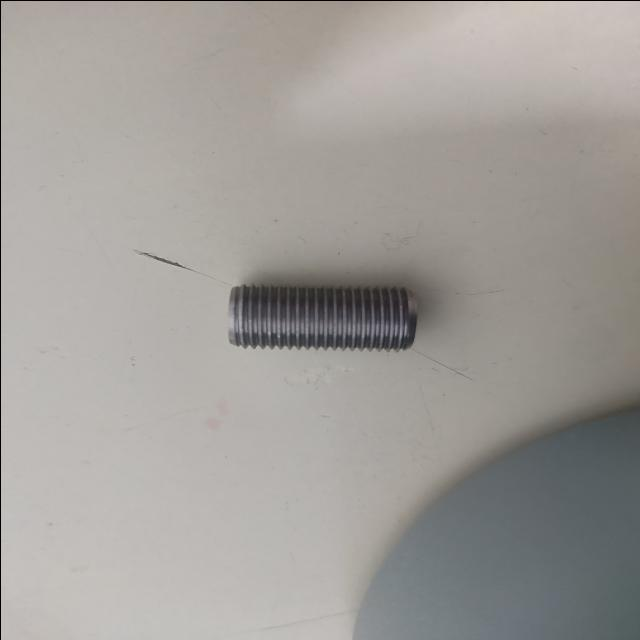Normal: (224, 281, 420, 352)
